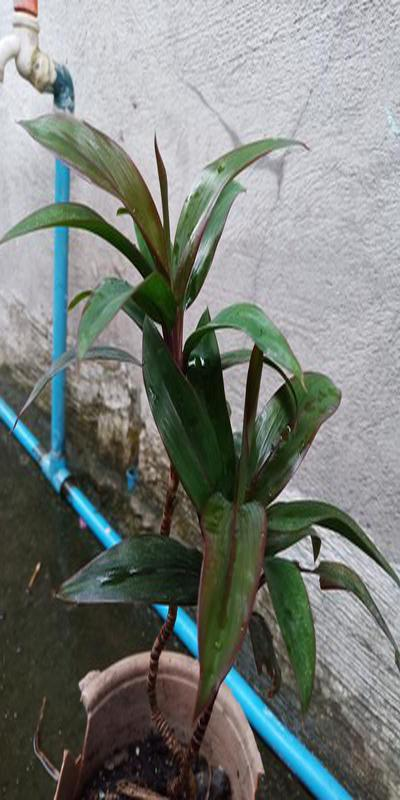Baston de san jose: (40, 115, 388, 764)
